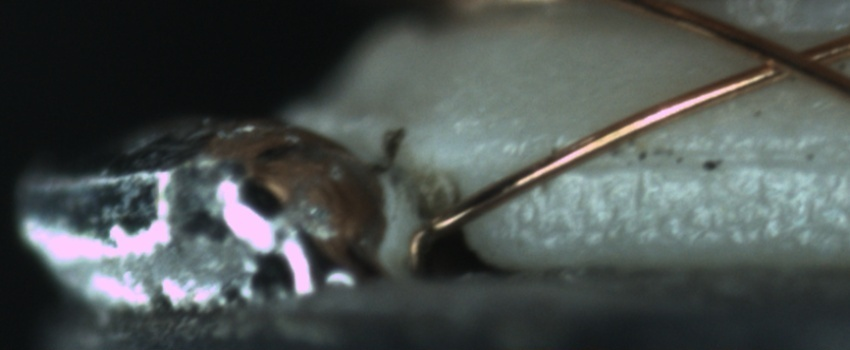CL: (727, 29, 849, 88)
DL: (533, 123, 848, 191)
